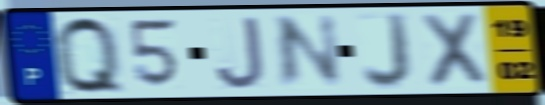5: (126, 17, 184, 92)
J: (359, 10, 414, 92), (213, 14, 268, 92)
N: (273, 12, 346, 92)
Q: (50, 13, 129, 97)
X: (417, 10, 490, 89)
